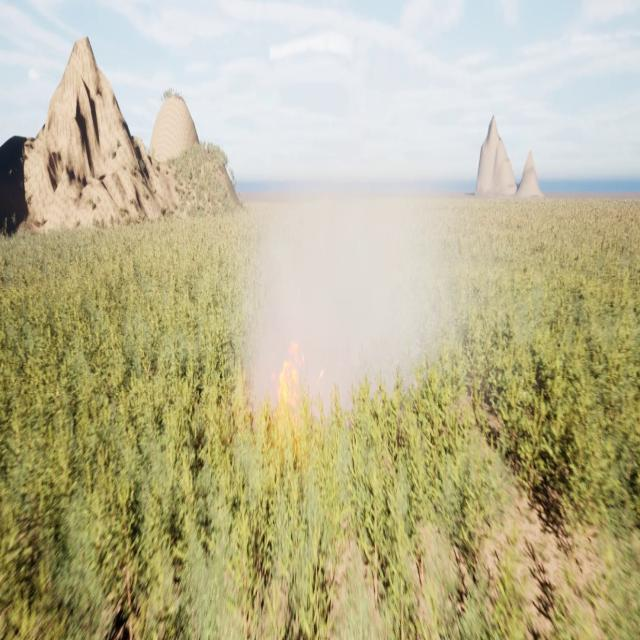fire: (268, 334, 312, 412)
smoke: (234, 99, 456, 434)
